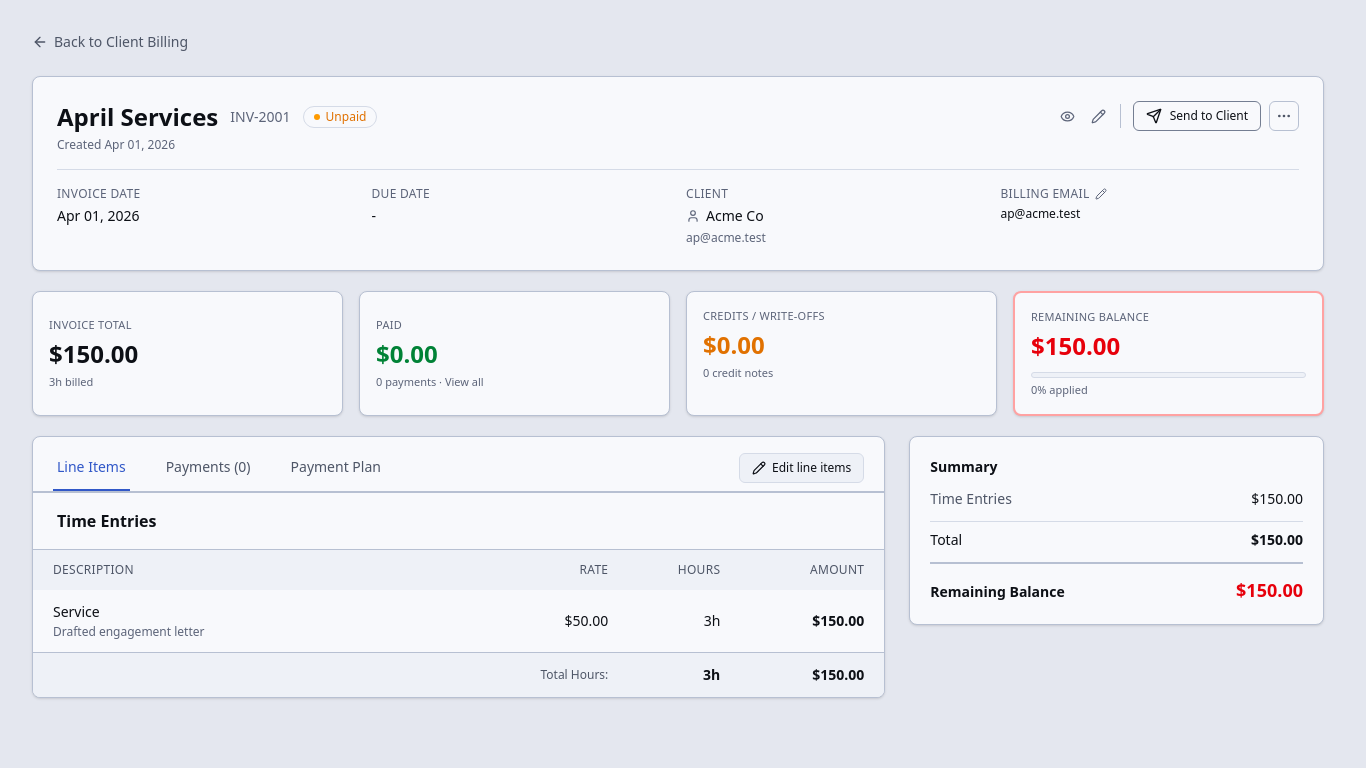
Test case: who sees the row link actions › withholds Send payment link from a member who cannot record payments
The width and height of the screenshot is (1366, 768).
Click the button "Payment Plan": (336,468) [287,445,385,491]
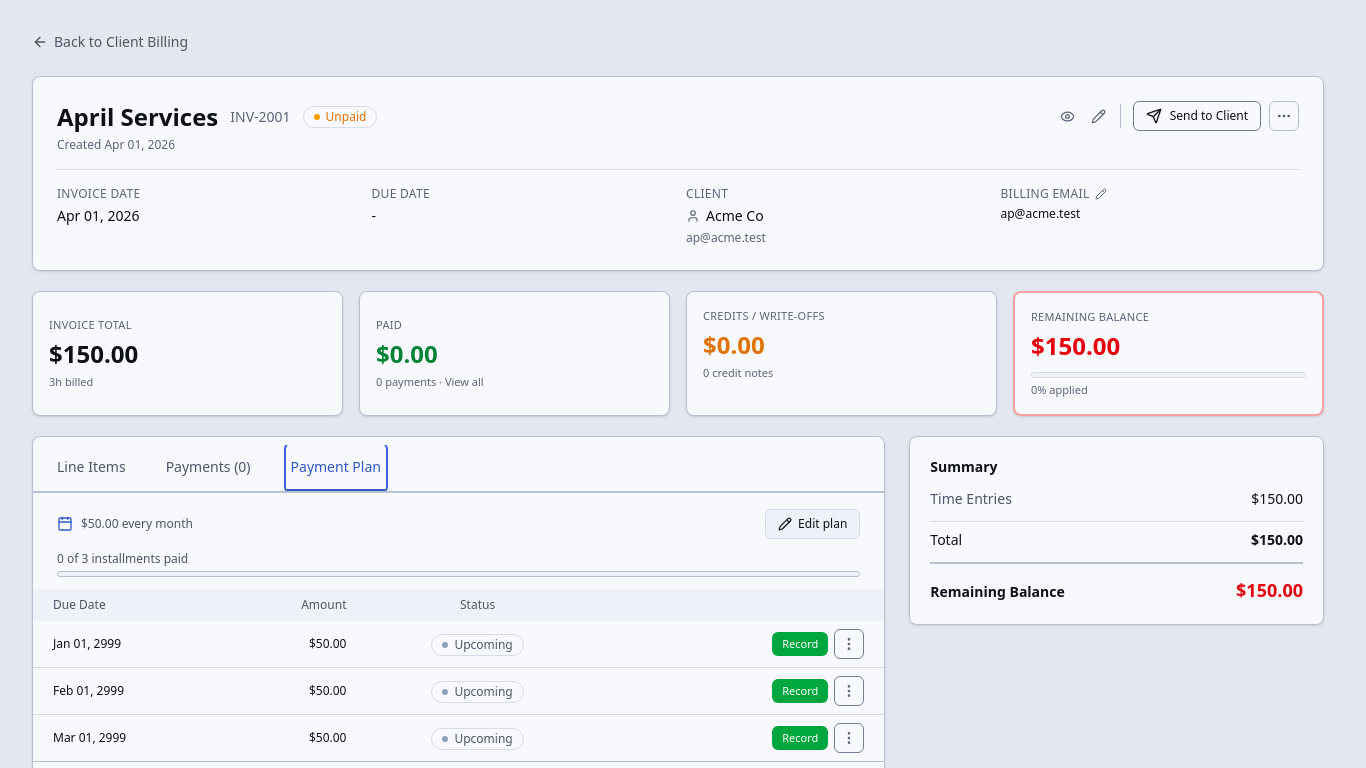
Click the 2nd button named "More installment actions": (849,691) [834,676,864,706]
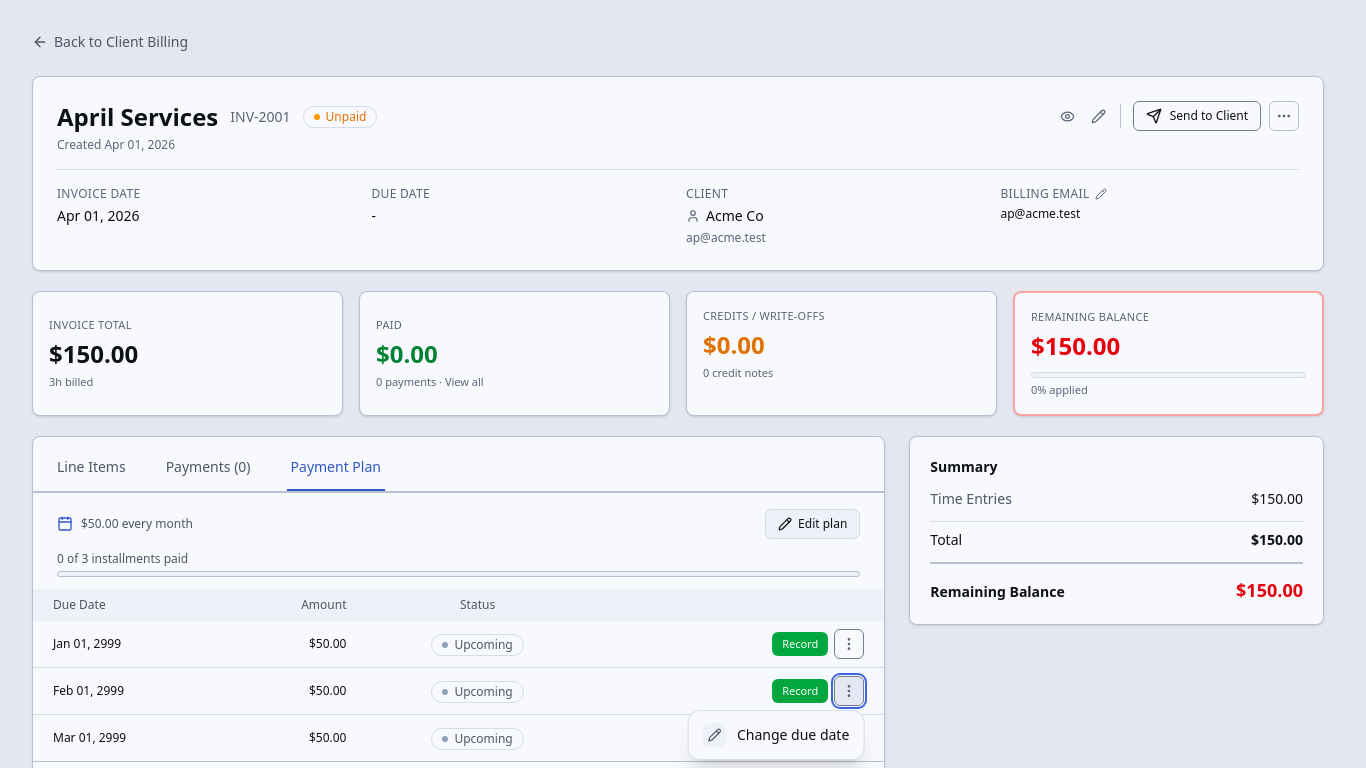
Check: the menu item "Change due date" is shown, box [693,715,859,755]
